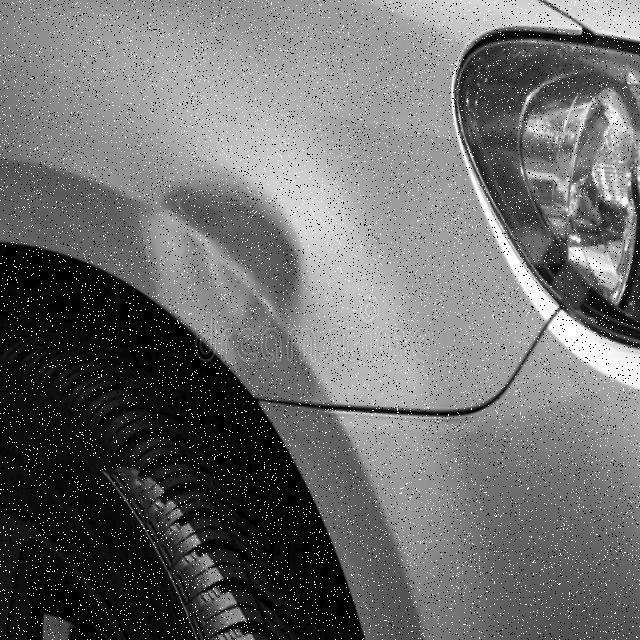fender-dent: (0, 0, 476, 412)
